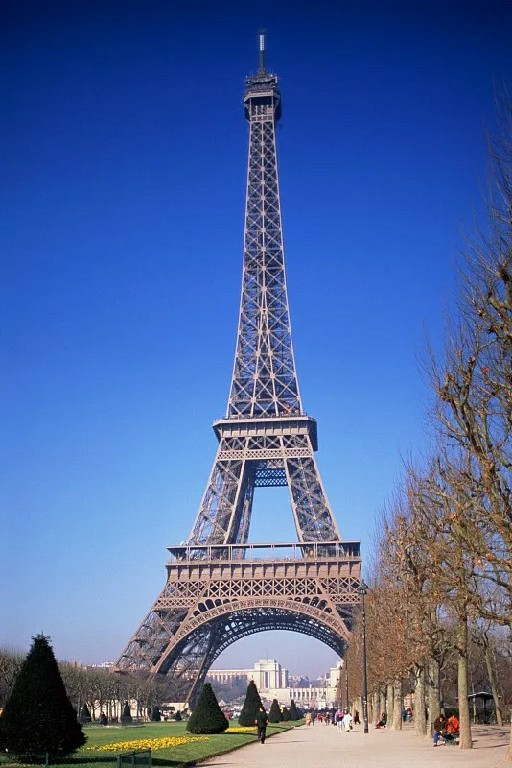Eiffel: (108, 29, 376, 675)
